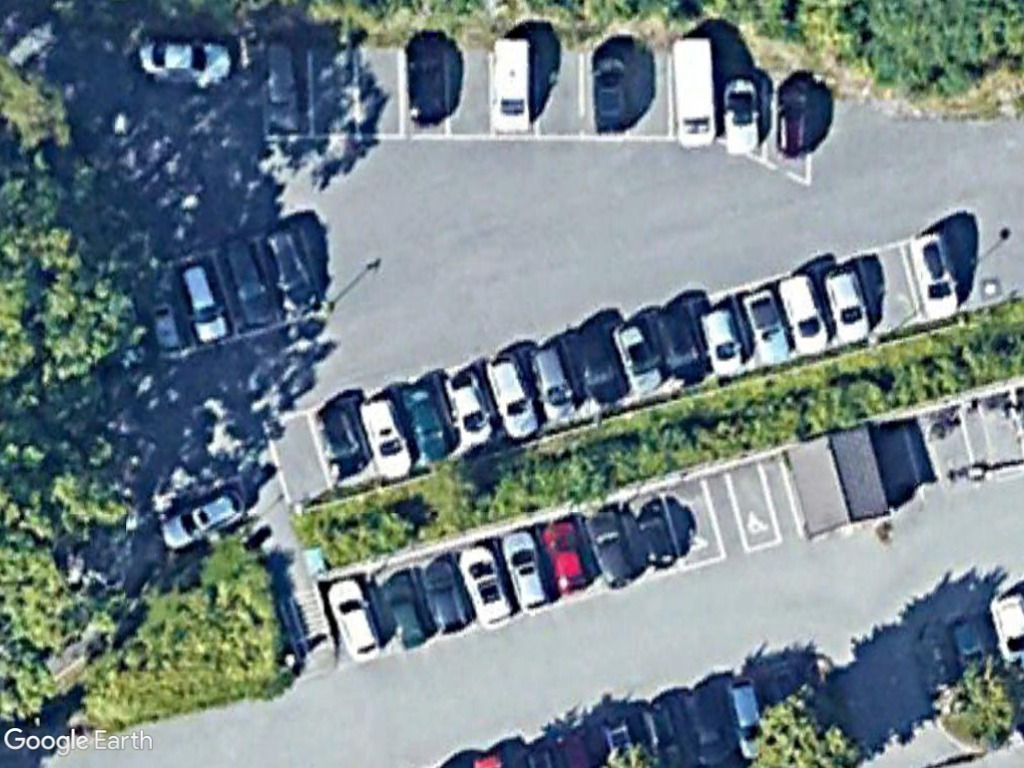car: (154, 482, 249, 554), (326, 577, 389, 664), (456, 538, 513, 633), (481, 354, 542, 442), (358, 393, 415, 480), (908, 229, 961, 322), (135, 35, 235, 84), (589, 41, 640, 137), (402, 379, 459, 464), (176, 258, 230, 345), (779, 266, 831, 356), (525, 339, 580, 424), (540, 515, 594, 597), (821, 260, 874, 342), (585, 502, 636, 586), (610, 319, 666, 393), (502, 526, 549, 614), (446, 366, 498, 444), (379, 568, 428, 649), (740, 285, 790, 363), (772, 73, 816, 161), (421, 555, 470, 633), (696, 306, 749, 378)
van: (669, 35, 722, 154), (491, 32, 537, 138)
